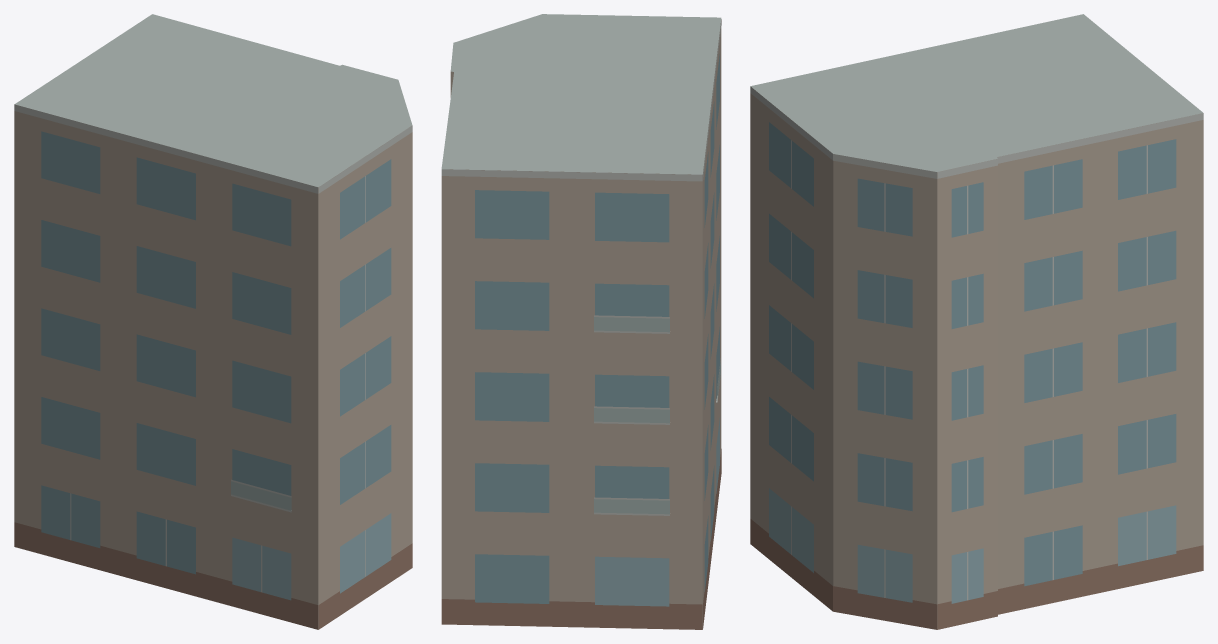
File: survey-upis-32841009.glb
The picture shows the model from 3 angles, left to right: view 1: azimuth 30°, elevation 25°; view 2: azimuth 150°, elevation 25°; view 3: azimuth 270°, elevation 25°; orthographic projection. The views are drawn at different scales.
Visible parts, largest first — view 1: survey-upis-32841009.tmp; view 2: survey-upis-32841009.tmp; view 3: survey-upis-32841009.tmp.
Boxes of the visible parts, box(x1,y1,x2,y2) form: survey-upis-32841009.tmp: box(14, 14, 412, 629); survey-upis-32841009.tmp: box(441, 14, 721, 629); survey-upis-32841009.tmp: box(750, 14, 1203, 629).
Bounding box in the file's own units: 12.12 × 16.35 × 14.69.
